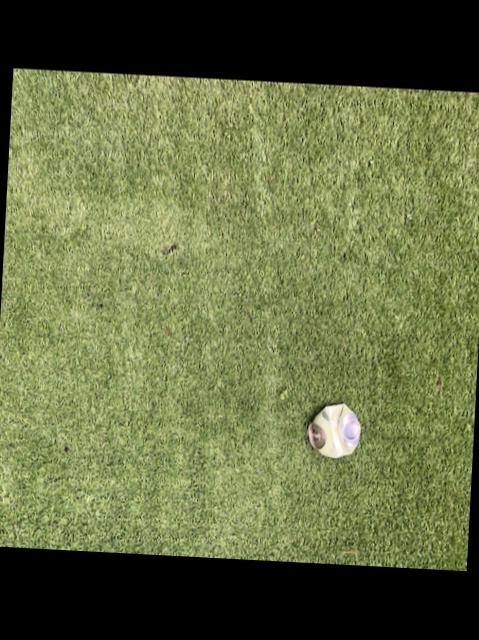metal: (309, 406, 360, 459)
